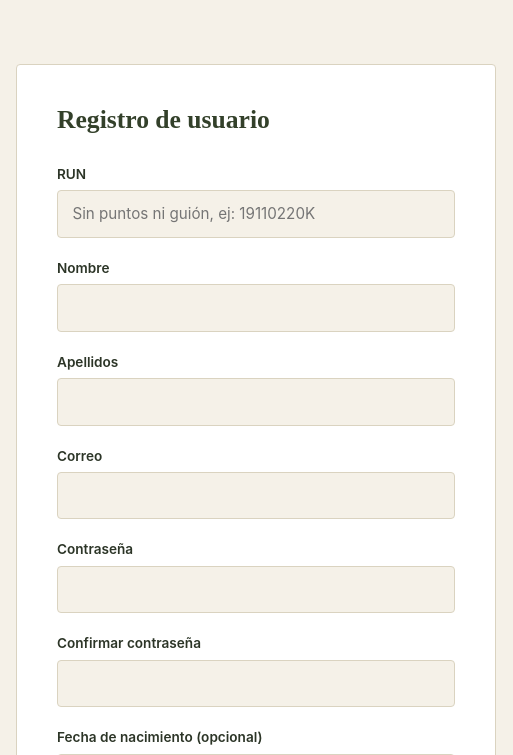
Test case: Registro › muestra error si el RUN tiene dígito verificador incorrecto
Type "191102201" into the field labelled "RUN" at (256, 214), box [57,190,455,238]
(page scrolled)
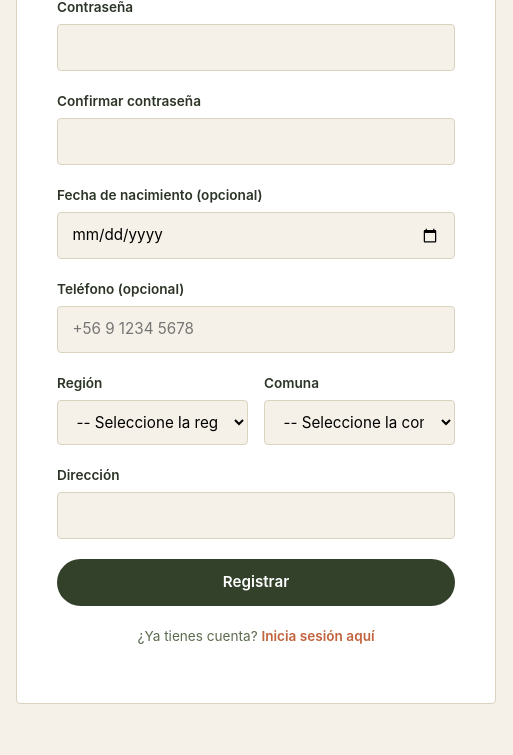
Click the button "Registrar" at (256, 583), box [57,559,455,606]
(page scrolled)
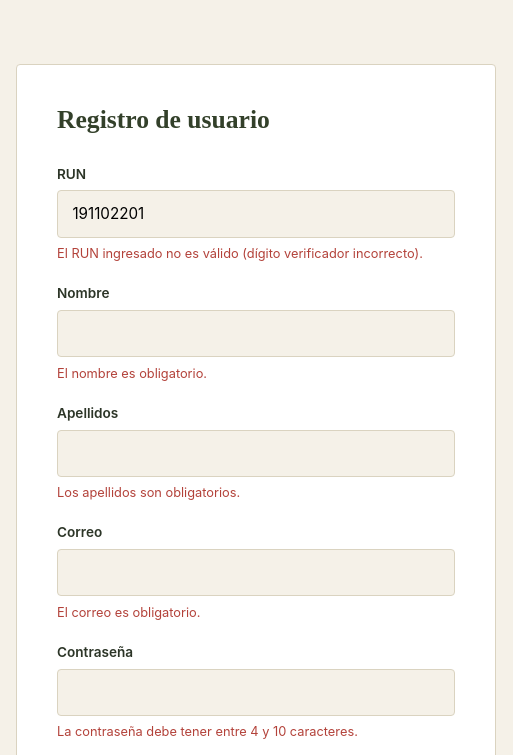
Expected: the text "El RUN ingresado no es válido (dígito verificador incorrecto)." is shown, [57,244,455,263]
